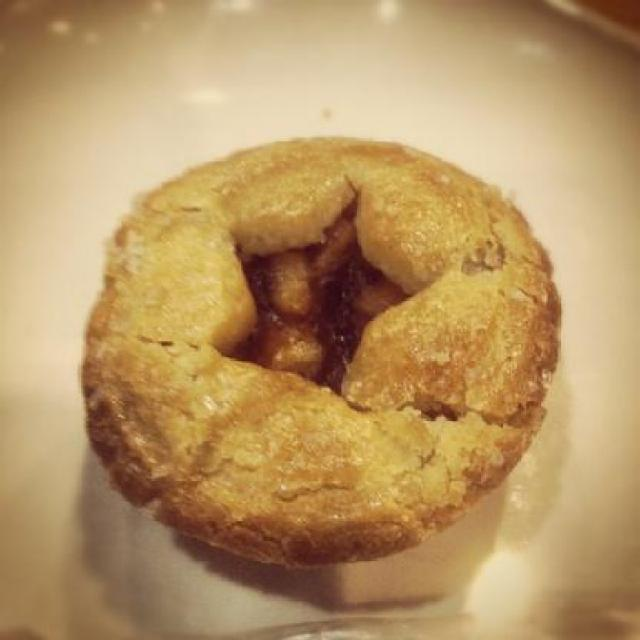Apple: (86, 140, 557, 562)
